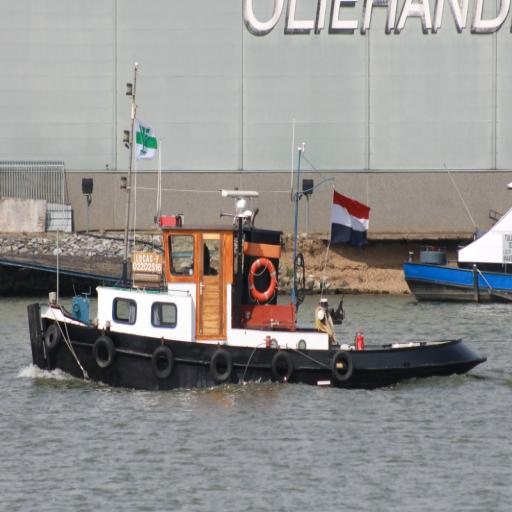tugboat: (25, 63, 492, 405)
